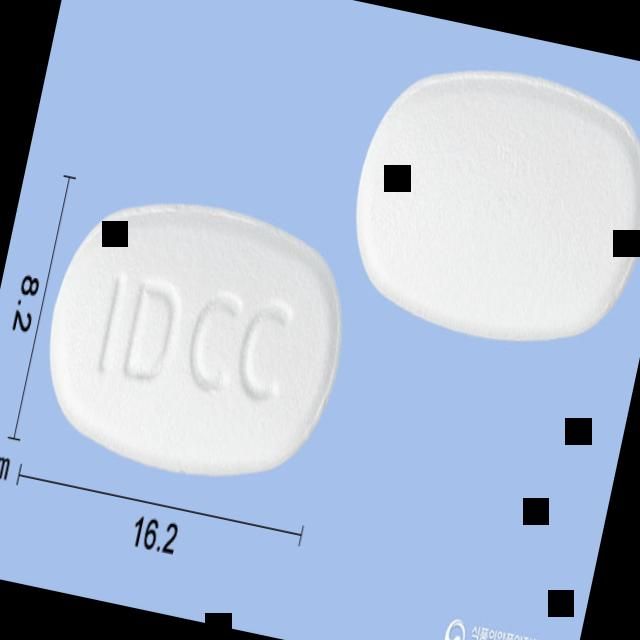Ciflox-Q: (27, 178, 364, 500), (333, 46, 640, 365)
